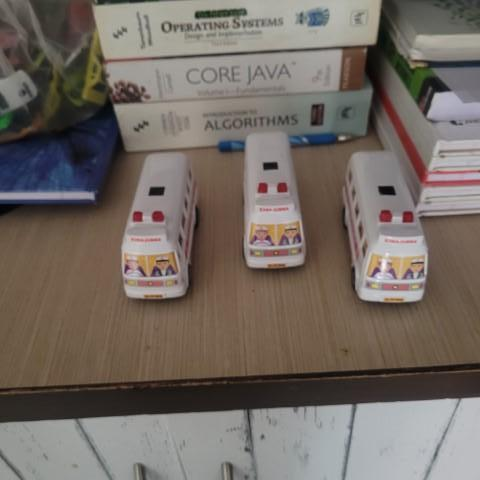ambulance: (340, 143, 428, 307), (121, 148, 201, 304), (236, 126, 311, 276)
